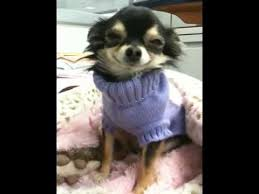chihuahua: (77, 2, 194, 178)
